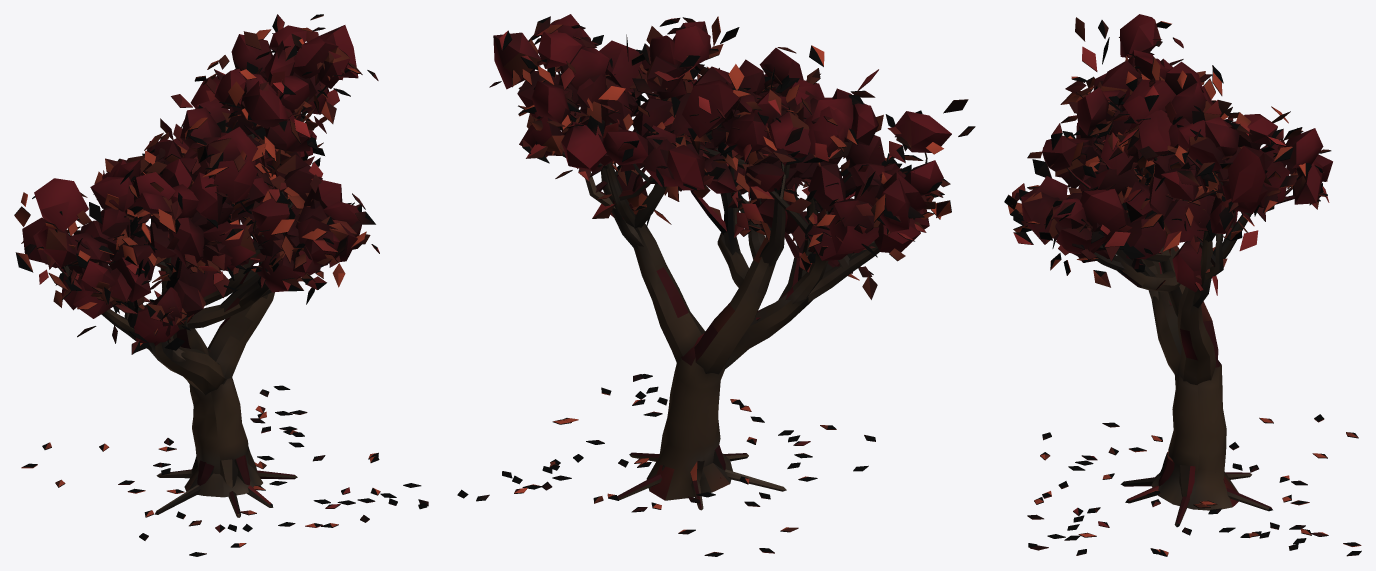
The model's file is CrimsonMaple.fbx.
3 views of the same model, side by side, from view 1: azimuth 30°, elevation 25°; view 2: azimuth 150°, elevation 25°; view 3: azimuth 270°, elevation 25° (orthographic). The views are drawn at different scales.
Parts seen in each view (by area): view 1: CrimsonMaple_Leaves, CrimsonMaple_Main, CrimsonMaple_Leaves2; view 2: CrimsonMaple_Leaves, CrimsonMaple_Main, CrimsonMaple_Leaves2; view 3: CrimsonMaple_Leaves, CrimsonMaple_Main, CrimsonMaple_Leaves2.
Part boxes in pixels (bbox=[...]): CrimsonMaple_Leaves: bbox=[22, 14, 379, 354]; CrimsonMaple_Main: bbox=[55, 86, 326, 517]; CrimsonMaple_Leaves2: bbox=[14, 27, 428, 556]; CrimsonMaple_Leaves: bbox=[493, 14, 968, 274]; CrimsonMaple_Main: bbox=[558, 67, 927, 510]; CrimsonMaple_Leaves2: bbox=[457, 16, 975, 556]; CrimsonMaple_Leaves: bbox=[1011, 14, 1332, 295]; CrimsonMaple_Main: bbox=[1057, 134, 1297, 527]; CrimsonMaple_Leaves2: bbox=[1004, 20, 1361, 556].
Size of the model in its own units: 1086 by 1157 by 855.
